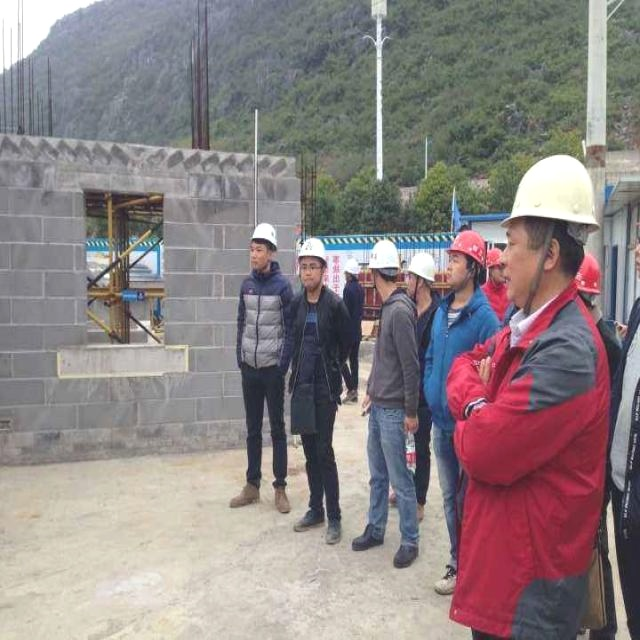Con_Casco: (500, 154, 593, 309), (368, 239, 400, 294)
